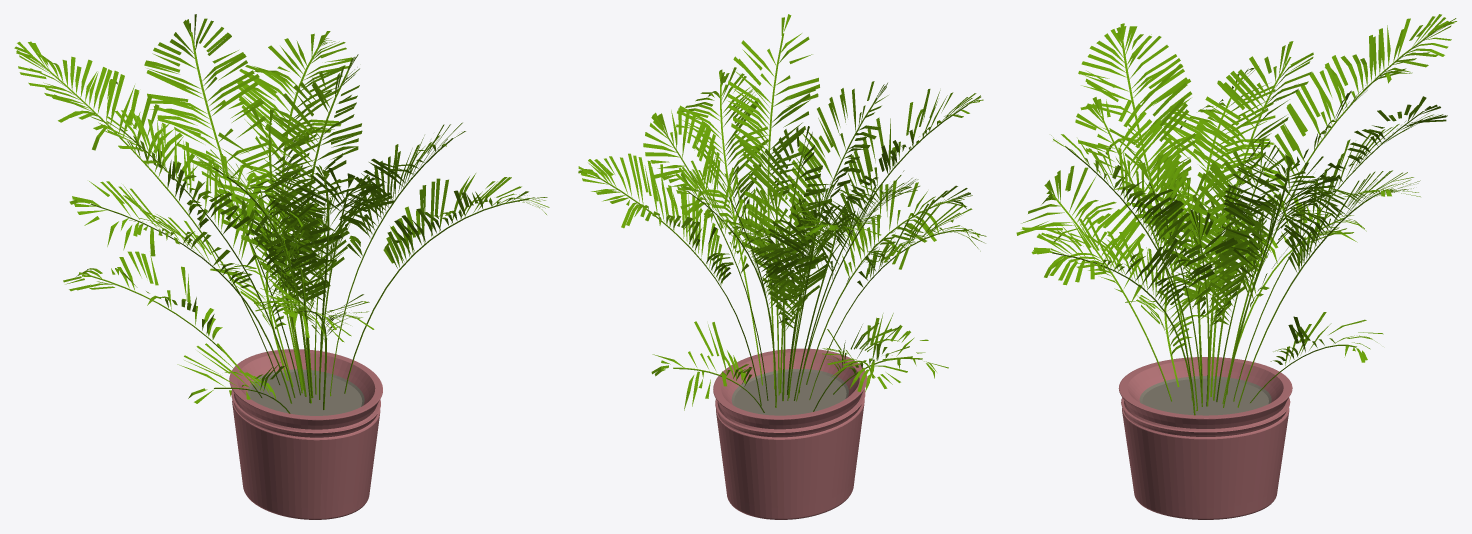
File: sh-bs0-plant.glb
The picture shows the model from 3 angles, left to right: view 1: azimuth 30°, elevation 25°; view 2: azimuth 150°, elevation 25°; view 3: azimuth 270°, elevation 25°; orthographic projection.
Parts seen in each view (by area): view 1: plant_Mesh.001, Circle; view 2: plant_Mesh.001, Circle; view 3: plant_Mesh.001, Circle.
Boxes of the visible parts, x1=… form: plant_Mesh.001: x1=14, y1=14, x2=549, y2=413; Circle: x1=229, y1=349, x2=382, y2=519; plant_Mesh.001: x1=578, y1=14, x2=986, y2=412; Circle: x1=713, y1=348, x2=867, y2=519; plant_Mesh.001: x1=1016, y1=14, x2=1456, y2=415; Circle: x1=1118, y1=357, x2=1292, y2=519.
Size of the model in its own units: 0.9973 by 1 by 1.
